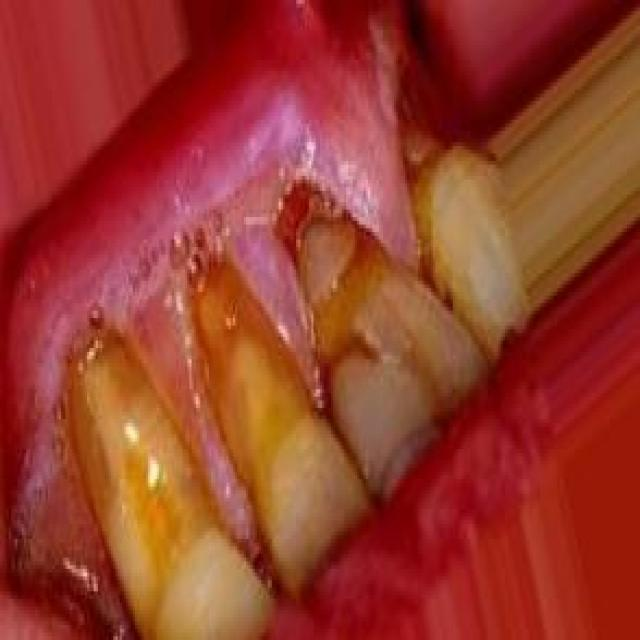caries: (278, 172, 382, 358)
